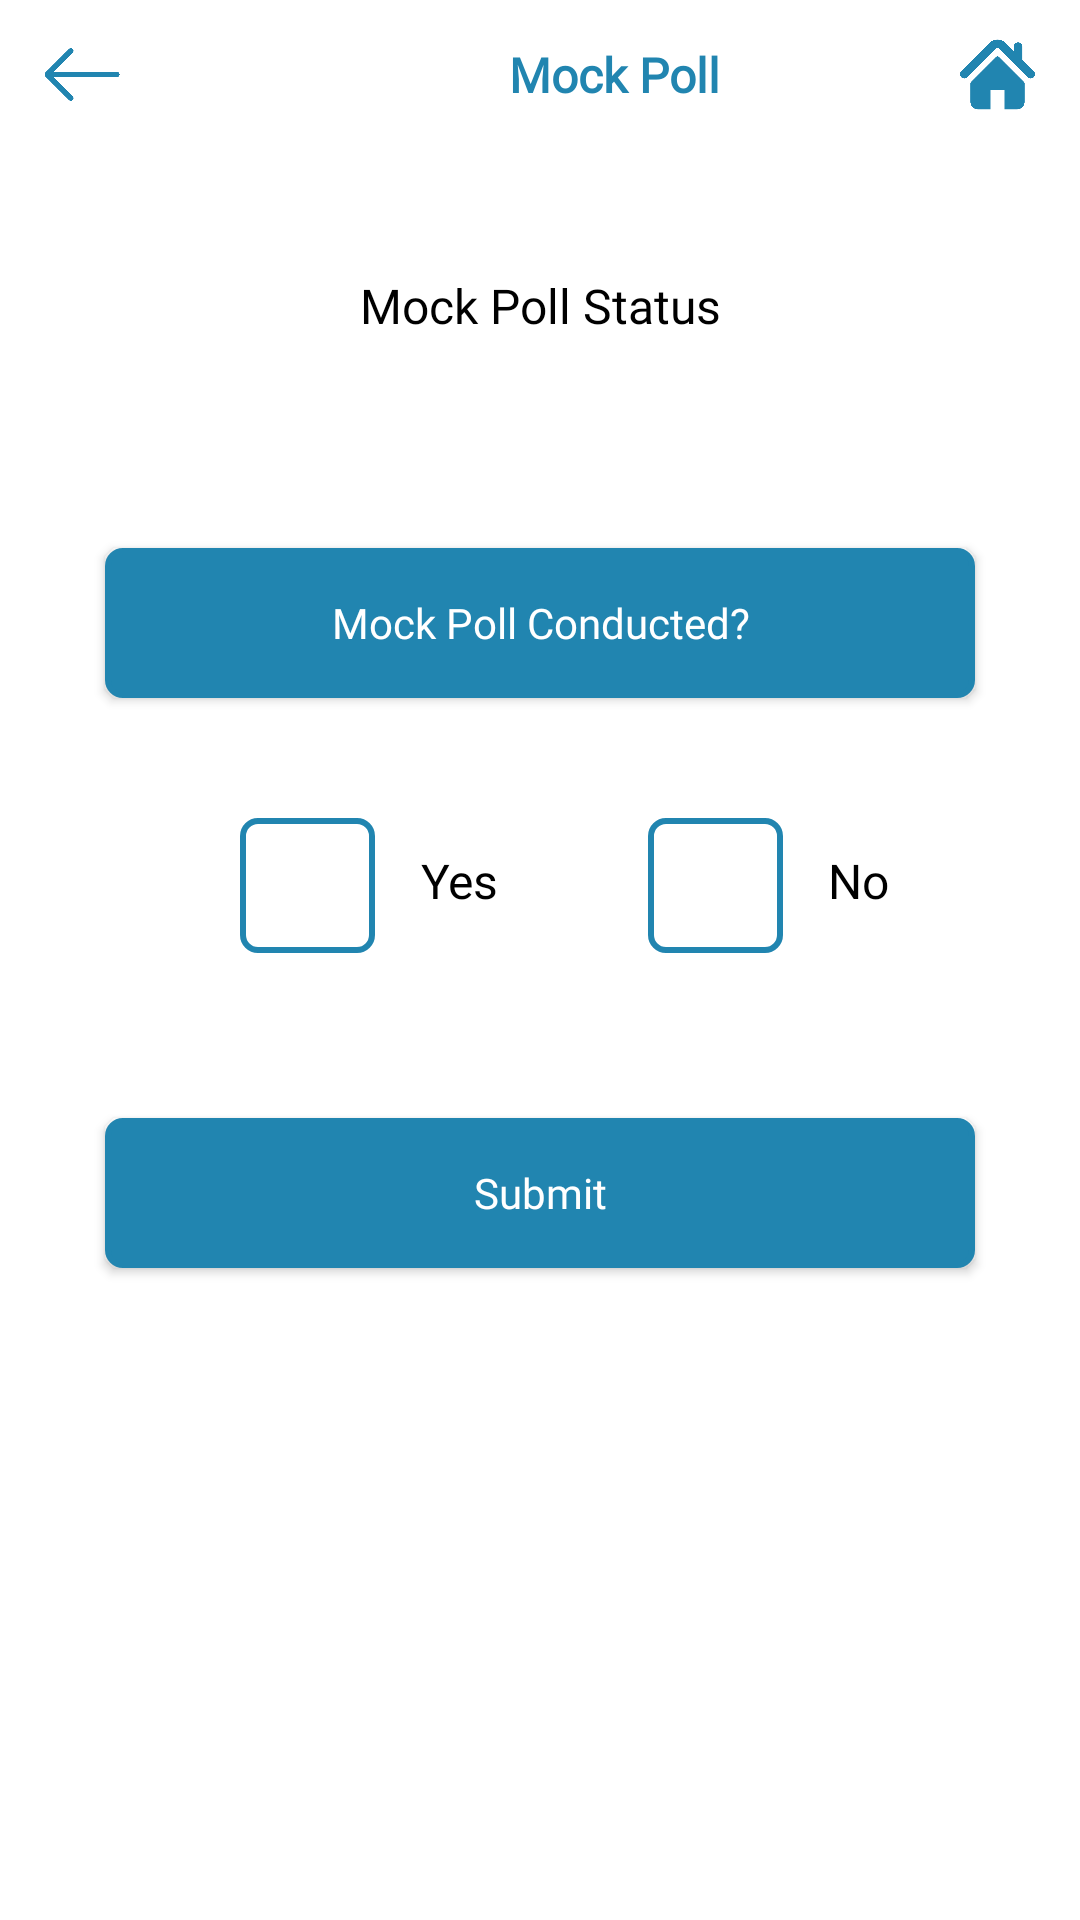

Where icons sit on this 1080 x 1920 app screen, as (x1, y1, x2, y2):
back: (45, 48, 120, 101)
home: (960, 39, 1035, 110)
